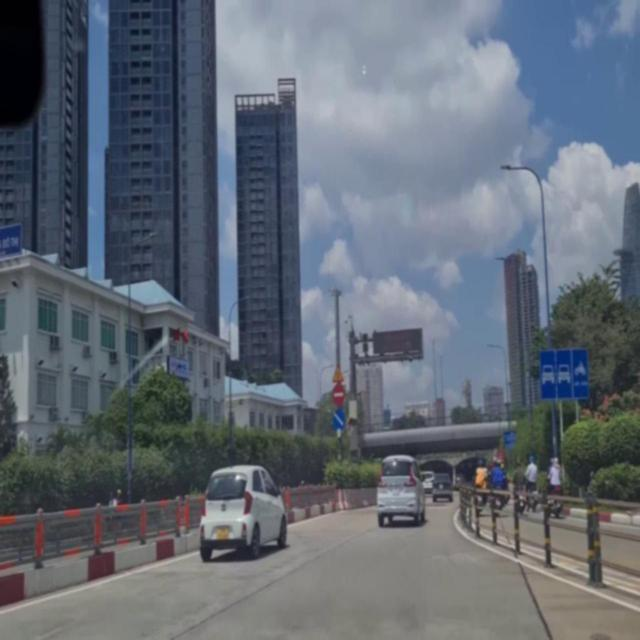Cấm đi ngược chiều: (329, 381, 345, 405)
Hướng phải đi vòng sang phải: (331, 410, 346, 431)
Làn đường cho từng xe: (536, 341, 590, 400)
Đường hẹp: (331, 361, 345, 382)
